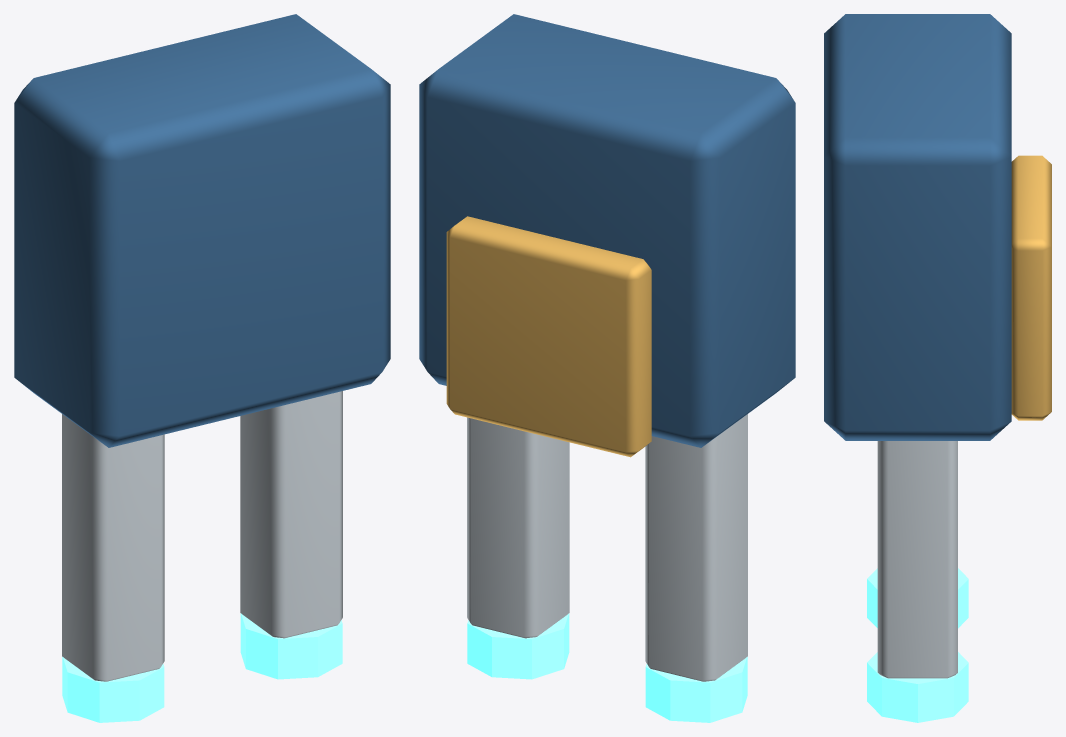
The model's file is twin_cannon.glb.
3 renders of one model, left to right at view 1: azimuth 30°, elevation 25°; view 2: azimuth 150°, elevation 25°; view 3: azimuth 270°, elevation 25°, orthographic. The views are drawn at different scales.
Visible parts, largest first — view 1: cannon | receiver, cannon | left barrel, cannon | right barrel, cannon | left muzzle, cannon | right muzzle; view 2: cannon | receiver, cannon | upper bridge, cannon | left barrel, cannon | right barrel, cannon | left muzzle, cannon | right muzzle; view 3: cannon | receiver, cannon | right barrel, cannon | upper bridge, cannon | right muzzle, cannon | left muzzle.
Boxes of the visible parts, box(x1,y1,x2,y2) form: cannon | receiver: box(14, 14, 390, 447); cannon | left barrel: box(62, 414, 164, 681); cannon | right barrel: box(240, 391, 342, 638); cannon | left muzzle: box(62, 657, 164, 722); cannon | right muzzle: box(240, 613, 342, 679); cannon | receiver: box(419, 14, 795, 447); cannon | upper bridge: box(446, 216, 651, 457); cannon | left barrel: box(645, 414, 747, 681); cannon | right barrel: box(467, 417, 569, 638); cannon | left muzzle: box(645, 657, 747, 722); cannon | right muzzle: box(467, 613, 569, 679); cannon | receiver: box(824, 14, 1011, 440); cannon | right barrel: box(877, 441, 957, 678); cannon | upper bridge: box(1011, 155, 1051, 420); cannon | right muzzle: box(867, 652, 968, 722); cannon | left muzzle: box(867, 568, 968, 628).
Bounding box in the file's own units: 1.25 × 2.41 × 0.85.
